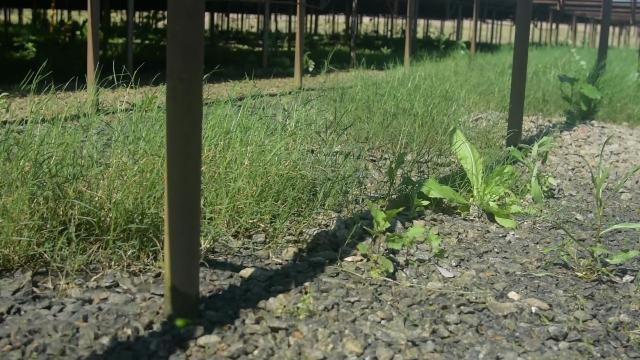MalezaMontesDelPlata: (0, 60, 164, 270), (201, 85, 323, 250), (538, 130, 640, 280), (411, 121, 520, 235), (322, 71, 412, 208), (343, 149, 425, 283), (506, 127, 557, 209), (553, 71, 605, 132)
